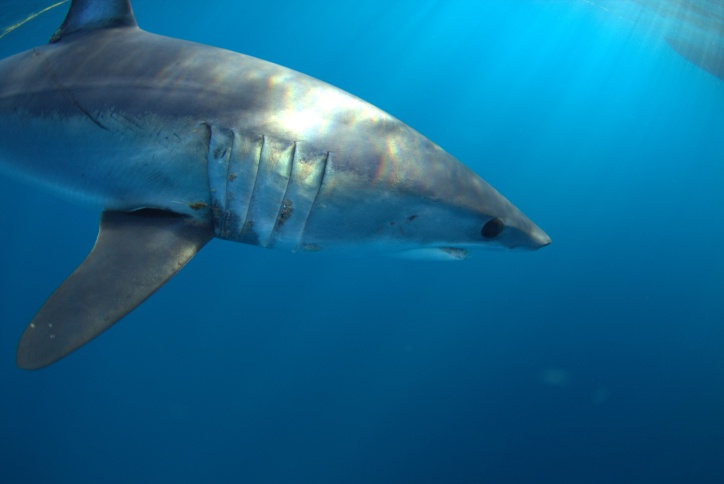Mako: (1, 1, 559, 366)
